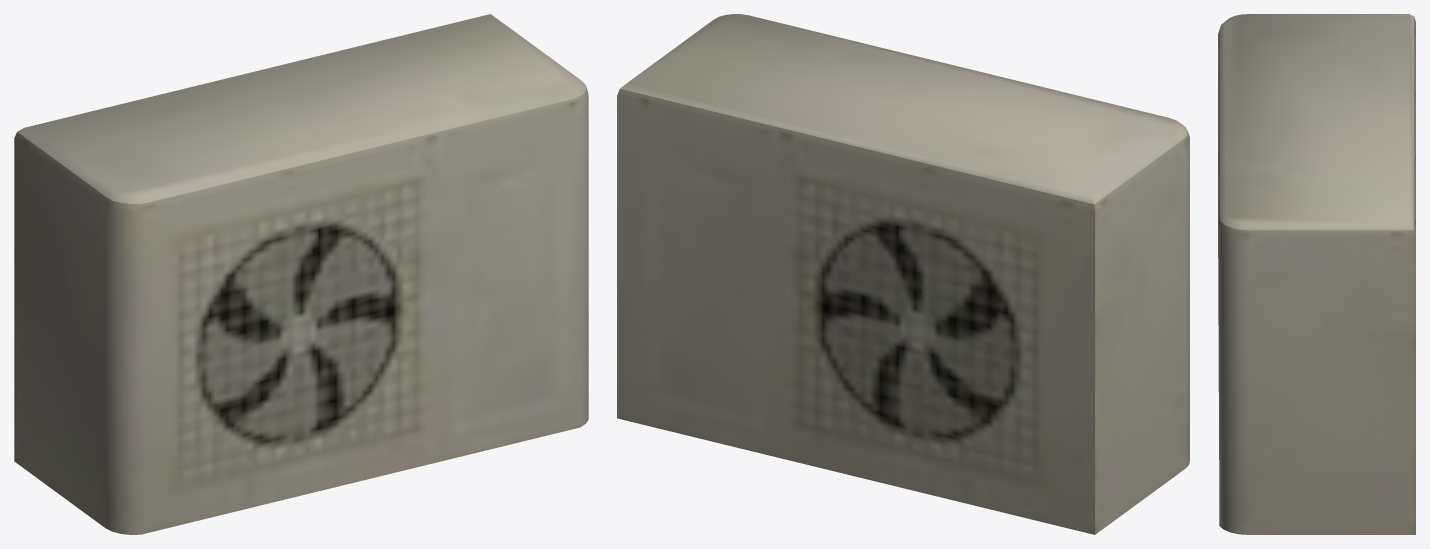
Rendered from Prop_ACUnit.glb.
3 views of the same model, side by side, from view 1: azimuth 30°, elevation 25°; view 2: azimuth 150°, elevation 25°; view 3: azimuth 270°, elevation 25° (orthographic). The views are drawn at different scales.
Visible parts, largest first — view 1: Prop_ACUnit; view 2: Prop_ACUnit; view 3: Prop_ACUnit.
Part boxes in pixels (x1=…): Prop_ACUnit: x1=14, y1=14, x2=588, y2=534; Prop_ACUnit: x1=617, y1=14, x2=1189, y2=534; Prop_ACUnit: x1=1218, y1=14, x2=1415, y2=534.
Bounding box in the file's own units: 0.8932 × 0.5968 × 0.3471.
Materials: 1 (1 with a texture image).
